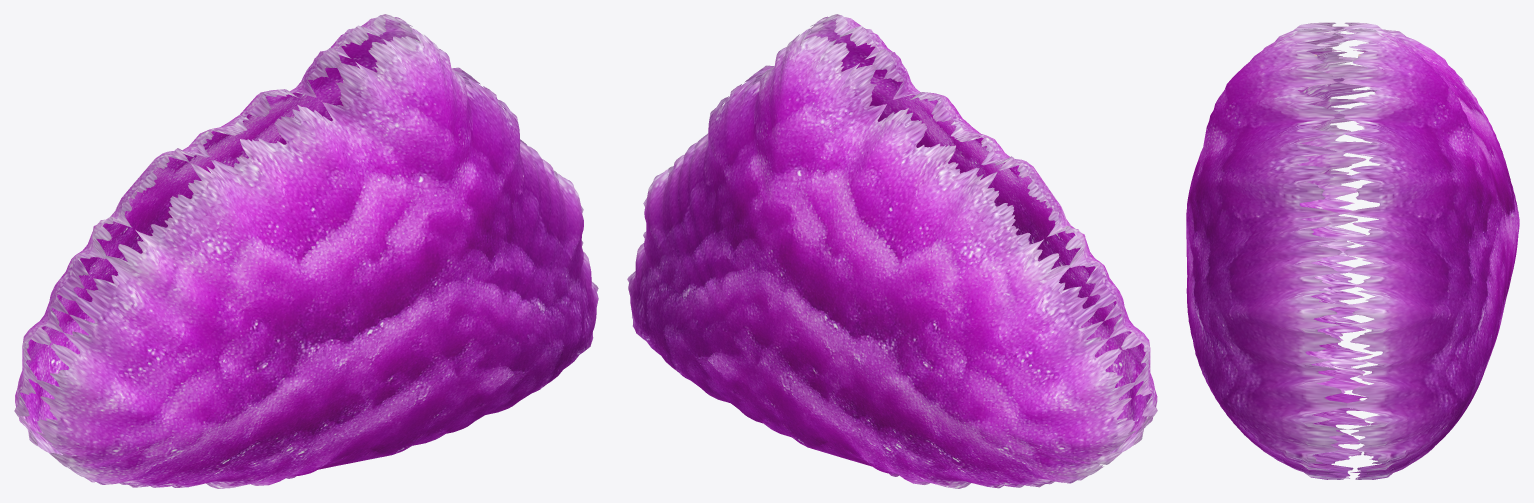
File: frutos-silvestres.glb
3 views of the same model, side by side, from view 1: azimuth 30°, elevation 25°; view 2: azimuth 150°, elevation 25°; view 3: azimuth 270°, elevation 25° (orthographic). The views are drawn at different scales.
Parts seen in each view (by area): view 1: frutos-silvestres; view 2: frutos-silvestres; view 3: frutos-silvestres.
Boxes of the visible parts, bbox=[...] form: frutos-silvestres: bbox=[14, 14, 598, 488]; frutos-silvestres: bbox=[627, 14, 1157, 488]; frutos-silvestres: bbox=[1186, 22, 1519, 479].
Bounding box in the file's own units: 1.98 × 1.5 × 1.02.
Materials: 1 (1 with a texture image).
